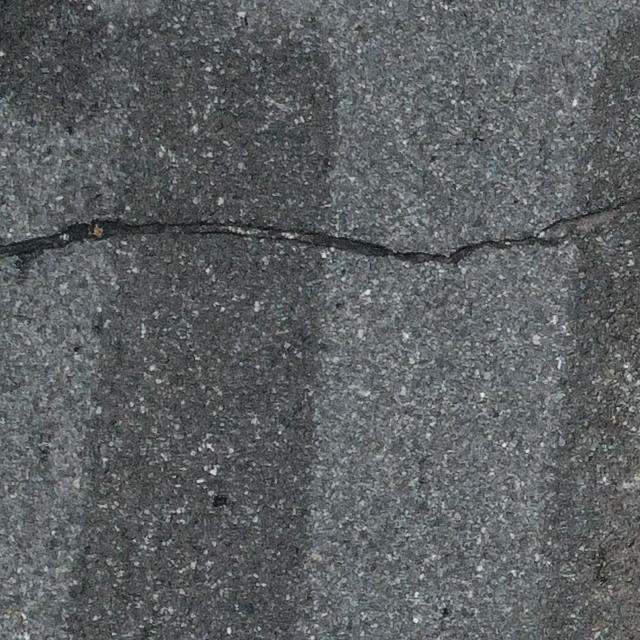TransverseCrack: (3, 199, 640, 264)
